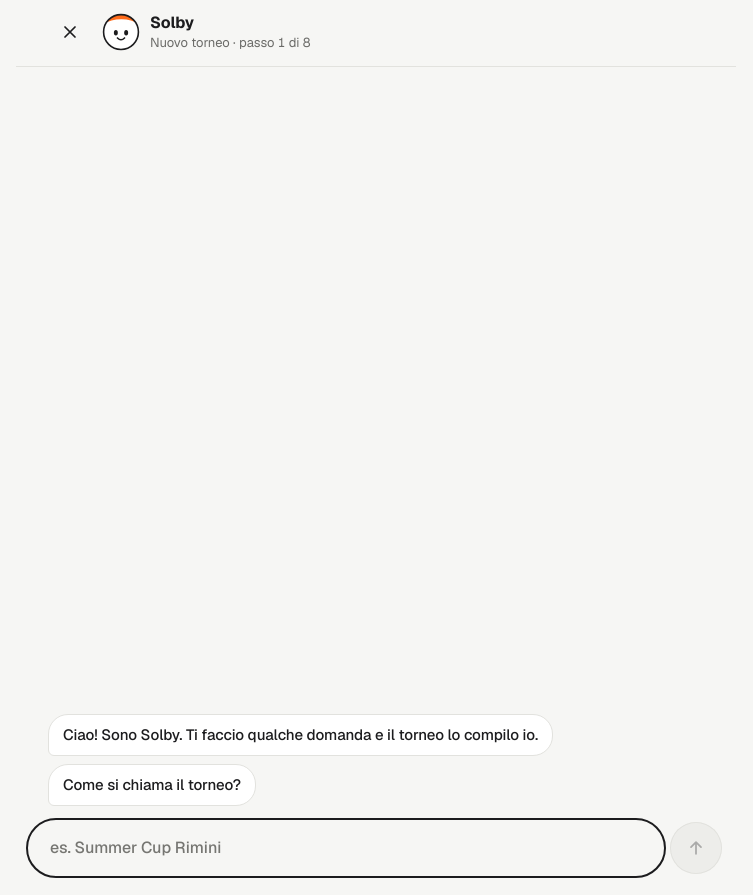
Test case: CreaChat — la testata e la capsula (design 14) › una risposta che non corrisponde a nessuna scelta: Pallo lo dice e le scelte restano
Type keys "Rimini Open{Enter}"
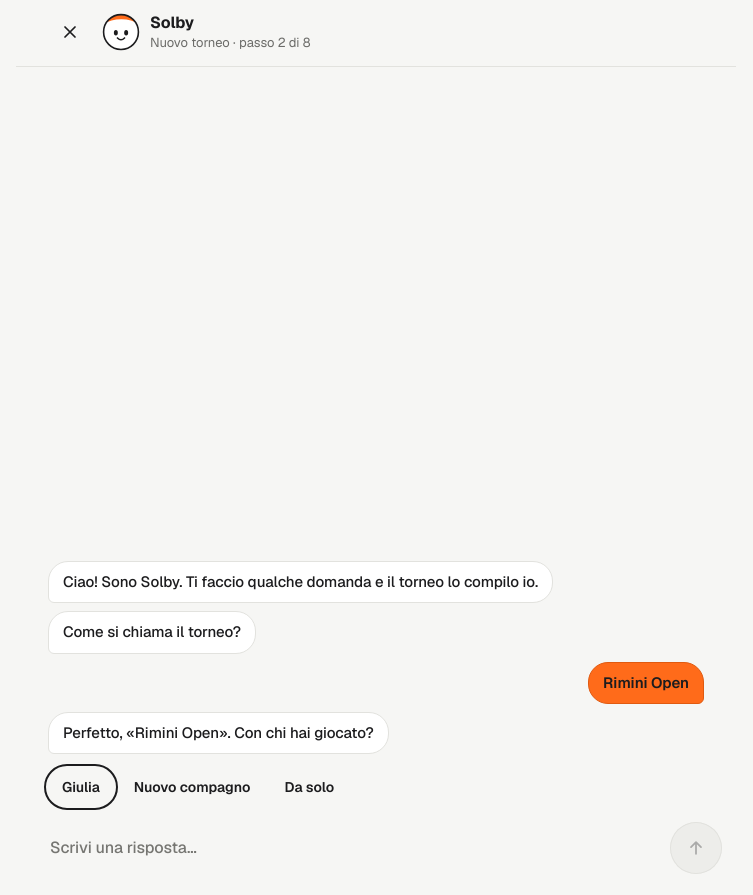
Click the button "Da solo" at (309, 787), box [270, 768, 348, 806]
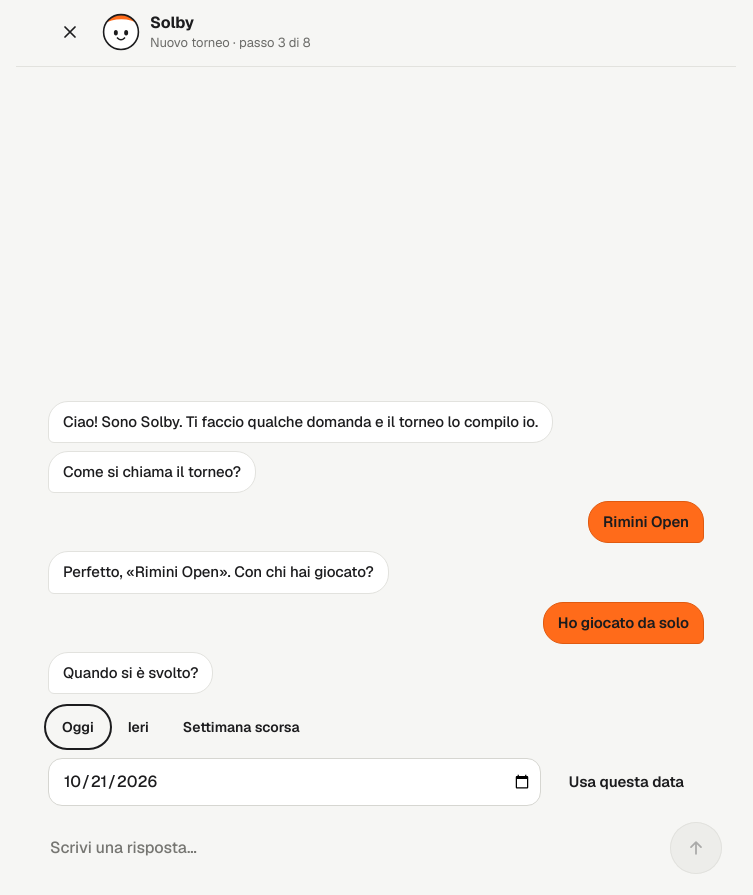
Type "boh" into the field named "Quando si è svolto?" at (346, 848), box [48, 835, 644, 861]
Then press Enter
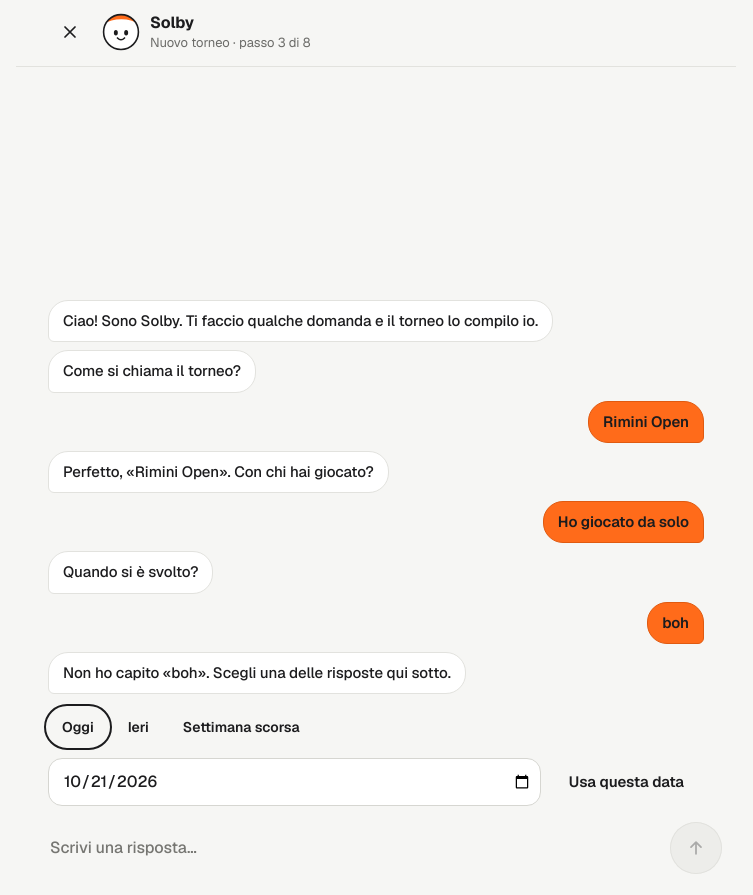
Result: the button "Oggi" is shown at [48, 708, 108, 746]
Result: the text "Non ho capito «boh». Scegli una delle risposte qui sotto." is shown at [48, 652, 466, 694]
